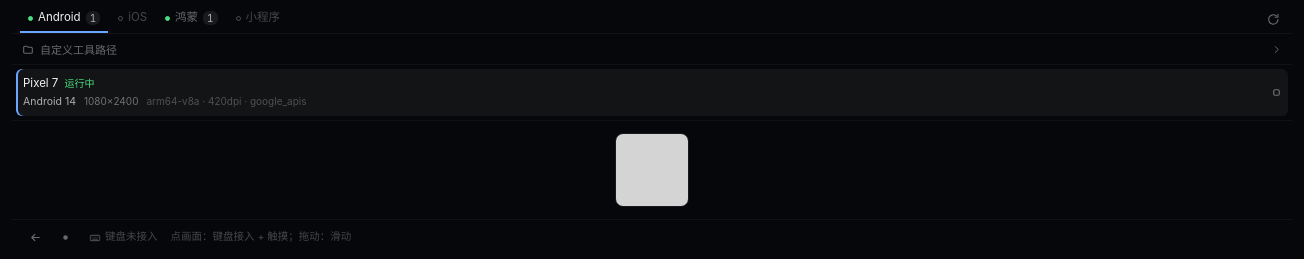
Scenario: 多平台：设备清单区分型号与系统 › 只有 canLaunch 的平台才画「启动」按钮
The width and height of the screenshot is (1304, 259).
Click the tab with class "sim-tab" showing "鸿蒙 1". click: point(191, 20)
box: [157, 6, 226, 33]
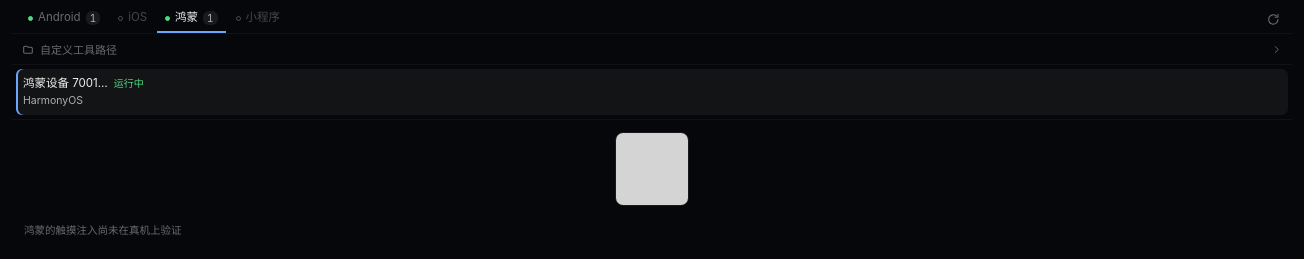
Result: the text with class "sim-device-name" shows "鸿蒙设备" at [23, 76, 108, 90]
